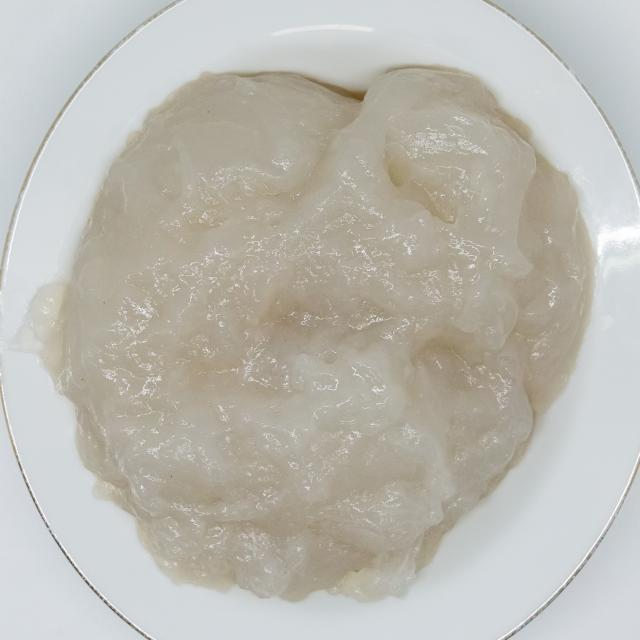Papeda: (44, 38, 605, 610)
